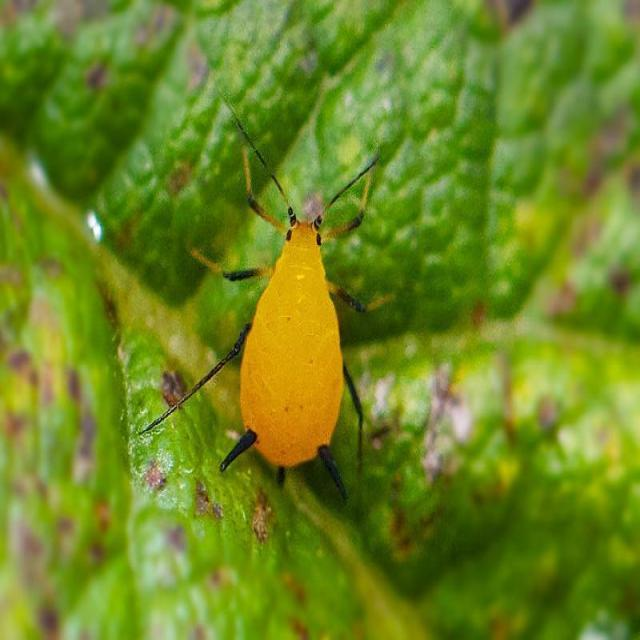aphid: (150, 122, 420, 516)
